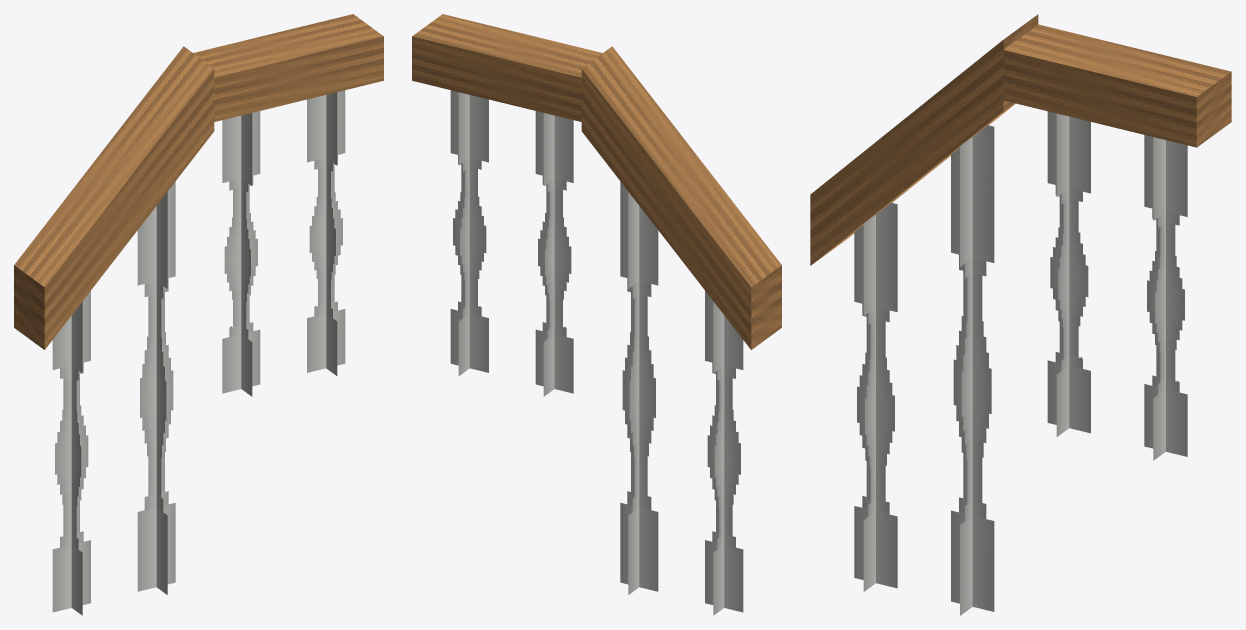
The model's file is top_pos.obj.
The picture shows the model from 3 angles, left to right: view 1: azimuth 30°, elevation 25°; view 2: azimuth 150°, elevation 25°; view 3: azimuth 330°, elevation 25°; orthographic projection. The views are drawn at different scales.
Parts seen in each view (by area): view 1: railing_turned_oak_top_pos; view 2: railing_turned_oak_top_pos; view 3: railing_turned_oak_top_pos.
Boxes of the visible parts, x1,y1,x2,y2 form: railing_turned_oak_top_pos: [14, 14, 383, 615]; railing_turned_oak_top_pos: [412, 14, 781, 615]; railing_turned_oak_top_pos: [810, 14, 1231, 615].
Size of the model in its own units: 1 by 1.46 by 0.1562.
